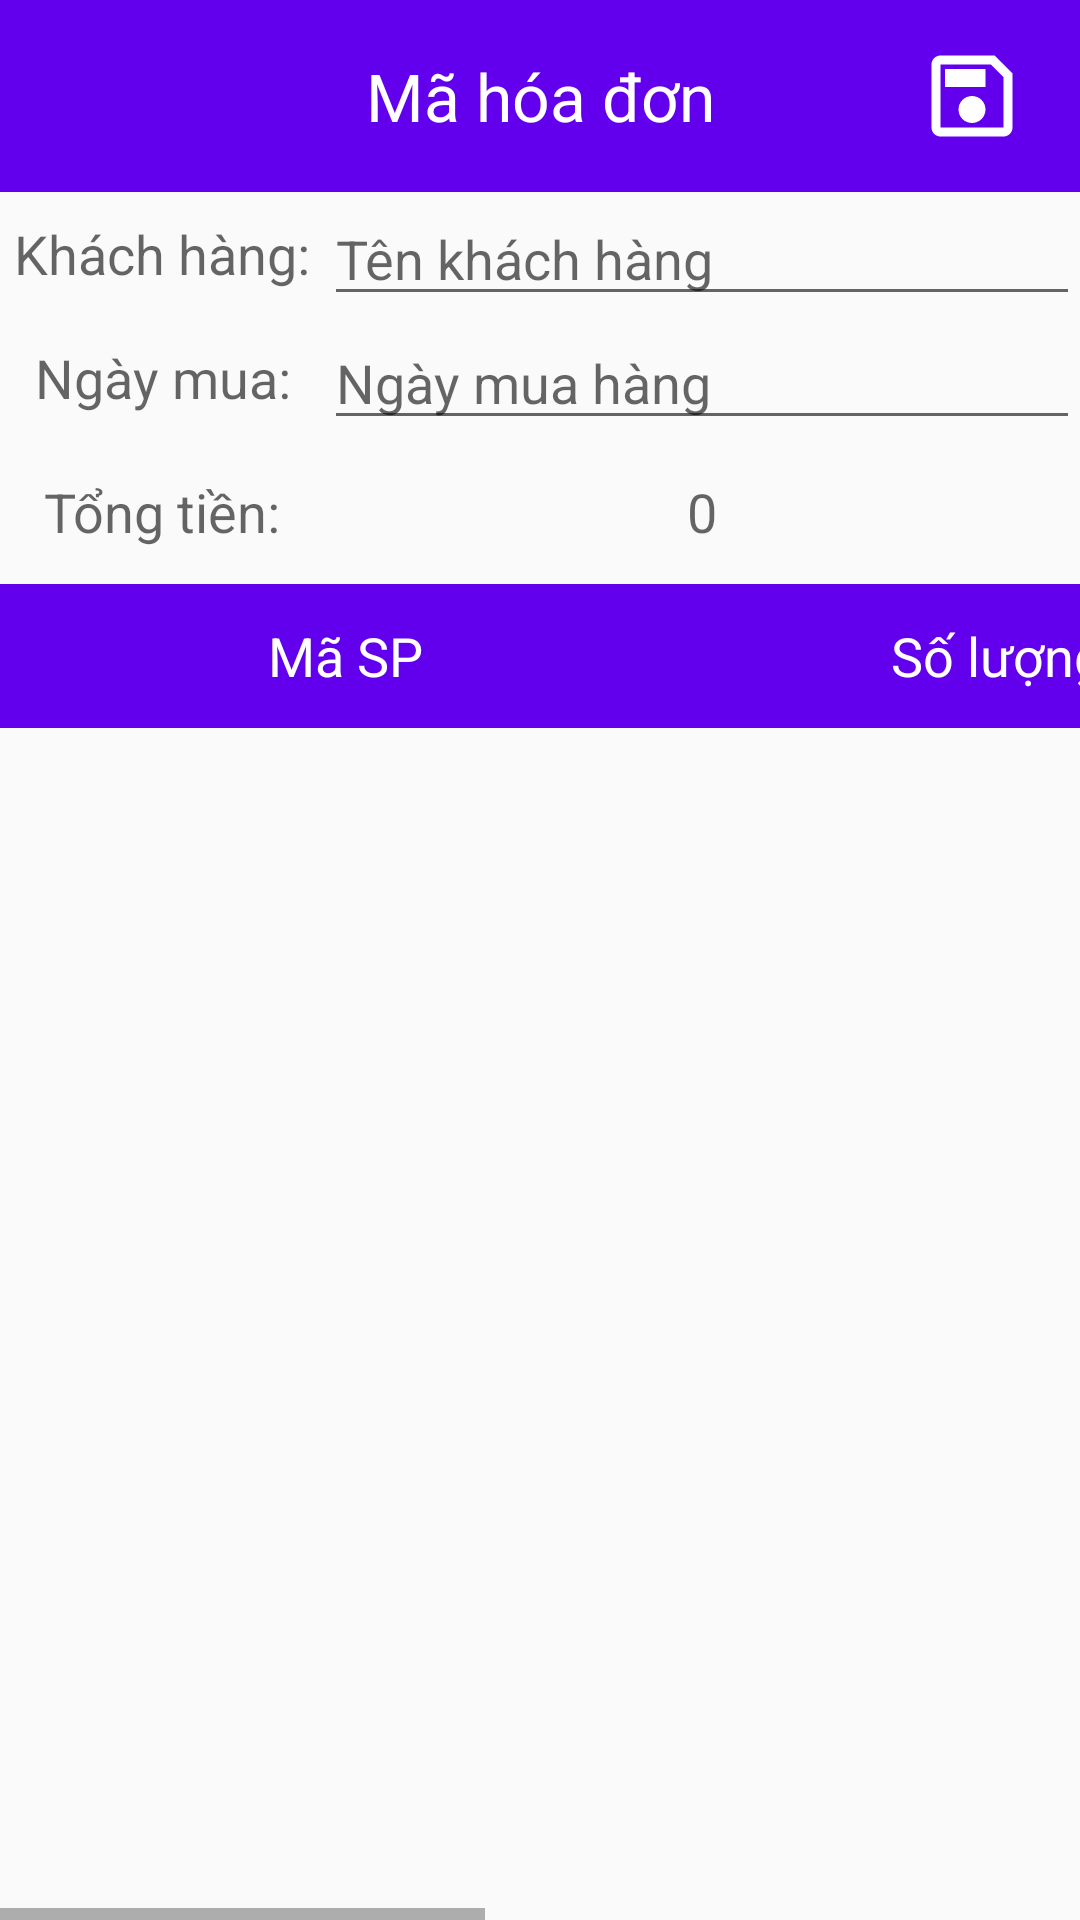

Locate icon controls on the screen. Image size 1080w x 1920h, boxes as (x1, y1, x2, y2).
save: (931, 55, 1013, 137)
